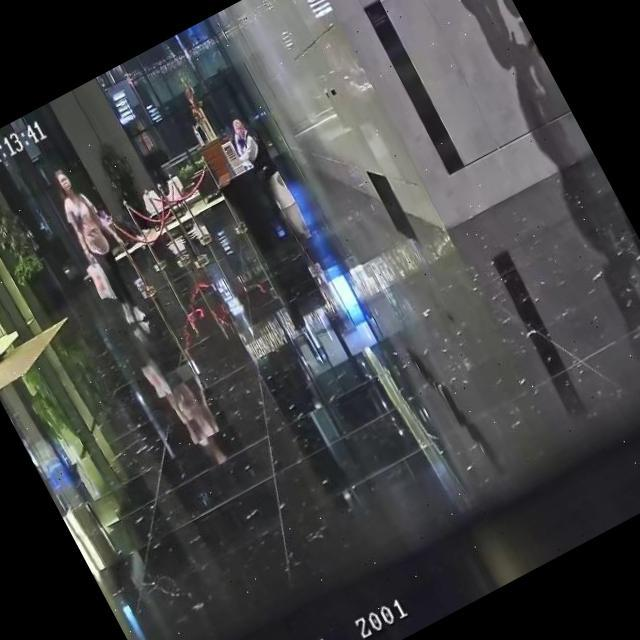person: (43, 156, 166, 337), (224, 110, 278, 182)
